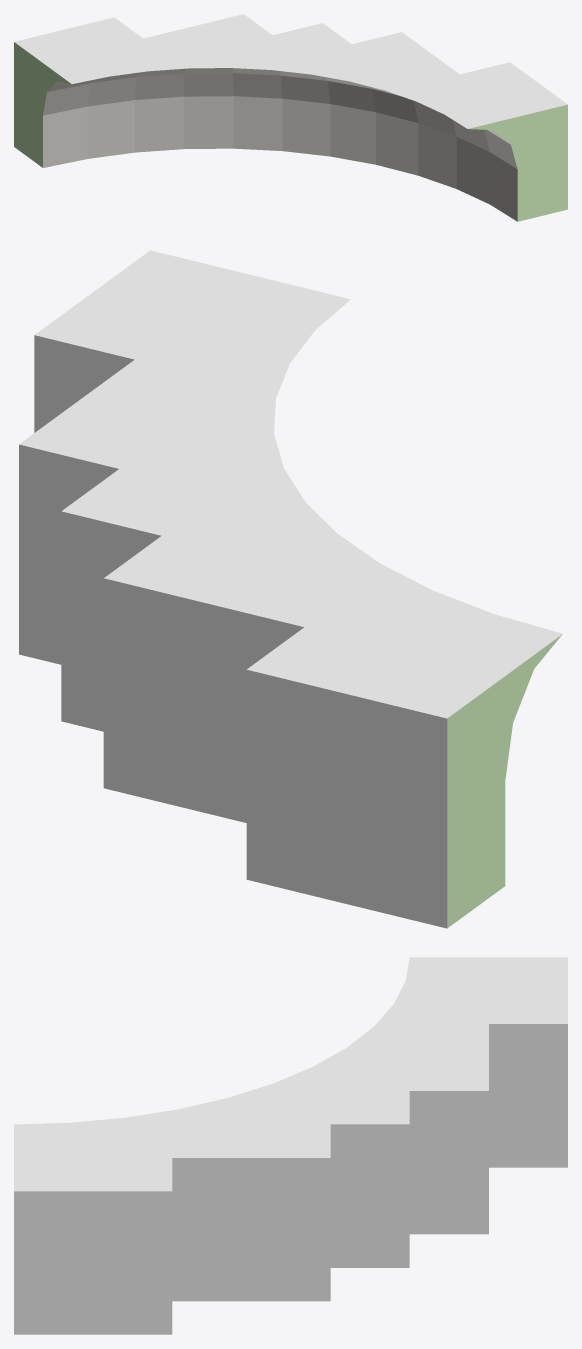
Rendered from Wall_Curve_Inner_7x7_Top.fbx.
The picture shows the model from 3 angles, top to bottom: view 1: azimuth 30°, elevation 25°; view 2: azimuth 150°, elevation 25°; view 3: azimuth 270°, elevation 25°; orthographic projection. The views are drawn at different scales.
Visible parts, largest first — view 1: Wall_Curve_Inner_7x7_Top; view 2: Wall_Curve_Inner_7x7_Top; view 3: Wall_Curve_Inner_7x7_Top.
Part boxes in pixels (box(x1,y1,x2,y2)): Wall_Curve_Inner_7x7_Top: box(14, 14, 567, 221); Wall_Curve_Inner_7x7_Top: box(19, 250, 562, 928); Wall_Curve_Inner_7x7_Top: box(14, 957, 567, 1334).
Size of the model in its own units: 700 by 200 by 700.
